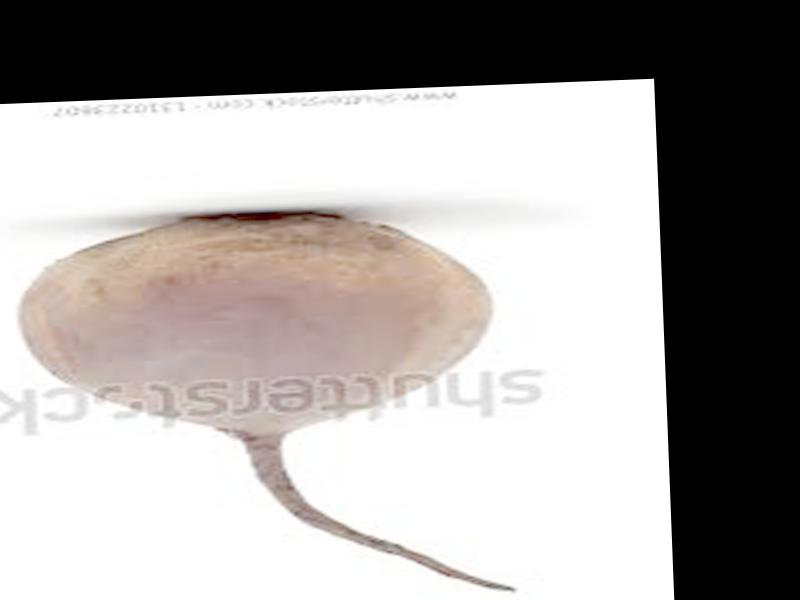Beet: (8, 201, 515, 600)
